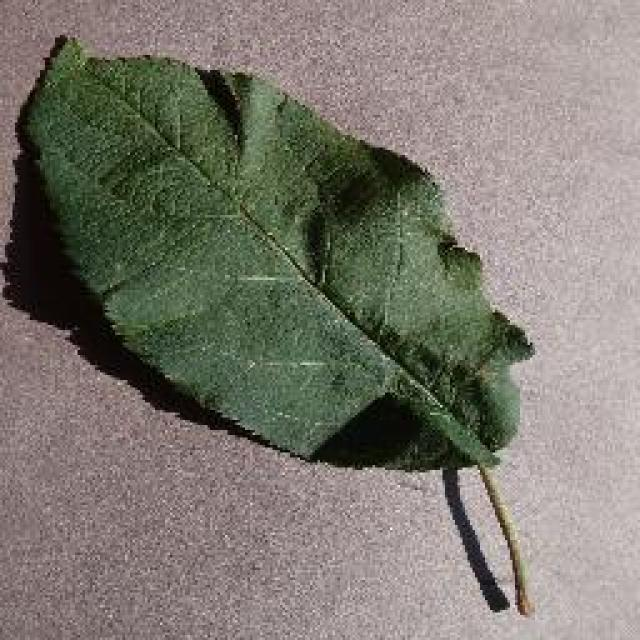apple healthy: (12, 30, 538, 615)
